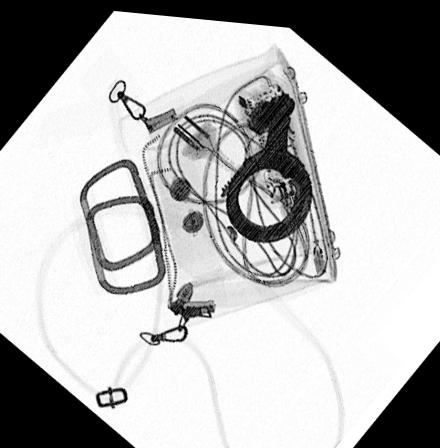HandCuffs: (217, 84, 313, 237)
